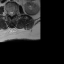CCS_normal: (10, 9, 12, 18)
LFS_normal: (14, 9, 16, 16)
LLS_normal: (12, 9, 14, 16)
RFS_normal: (6, 9, 8, 16)
RLS_normal: (8, 9, 10, 17)
